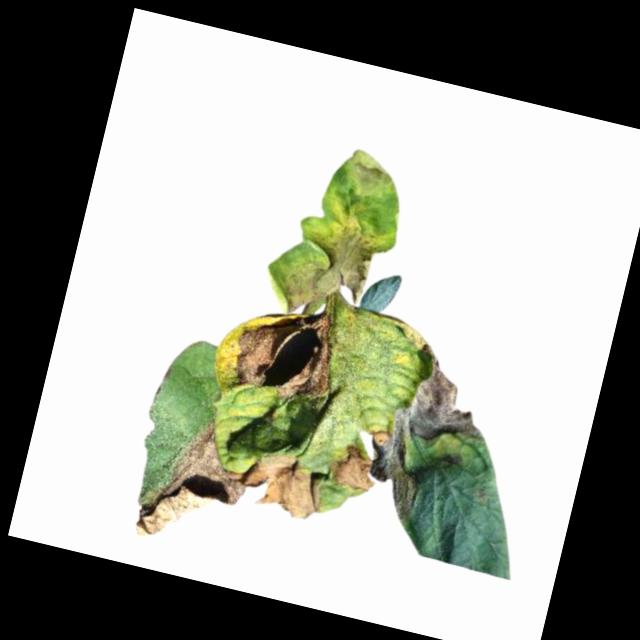Late_blight: (131, 407, 262, 559), (226, 294, 347, 411), (278, 207, 382, 331), (353, 404, 436, 522), (401, 352, 498, 452), (219, 441, 330, 523), (337, 145, 407, 210), (325, 440, 384, 497)
